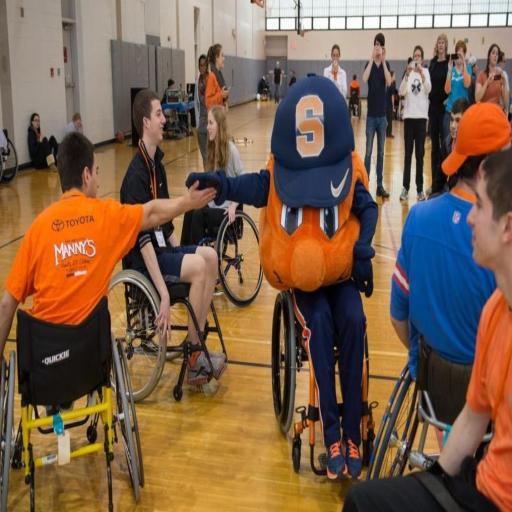person: (187, 76, 377, 478), (344, 149, 511, 511), (0, 133, 214, 353), (391, 106, 510, 424), (126, 222, 218, 335), (400, 46, 431, 201), (363, 33, 391, 198), (205, 106, 244, 177), (429, 34, 447, 182), (443, 41, 471, 133), (475, 44, 508, 105), (440, 98, 469, 164), (28, 113, 58, 170), (195, 55, 208, 167), (206, 44, 228, 109), (324, 44, 347, 97), (386, 71, 396, 138), (468, 56, 479, 104), (273, 61, 283, 103), (66, 112, 83, 133), (161, 79, 174, 103), (258, 76, 270, 98), (349, 75, 360, 96), (289, 70, 297, 86), (408, 57, 412, 66)
